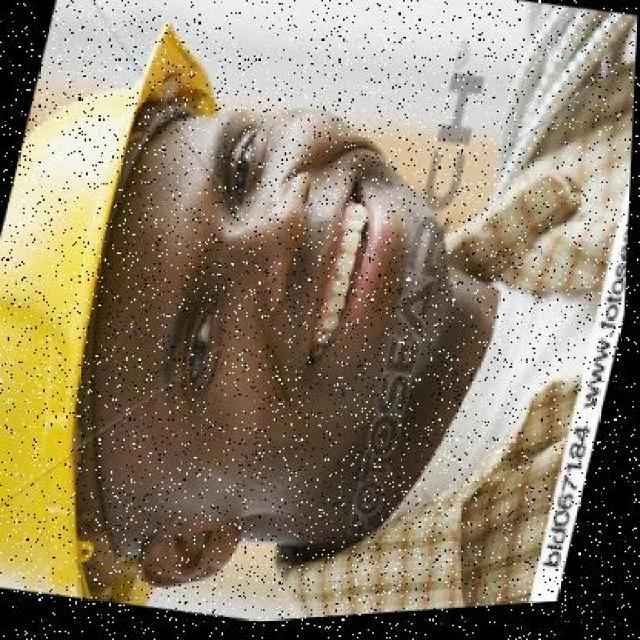helmet: (0, 0, 261, 598)
